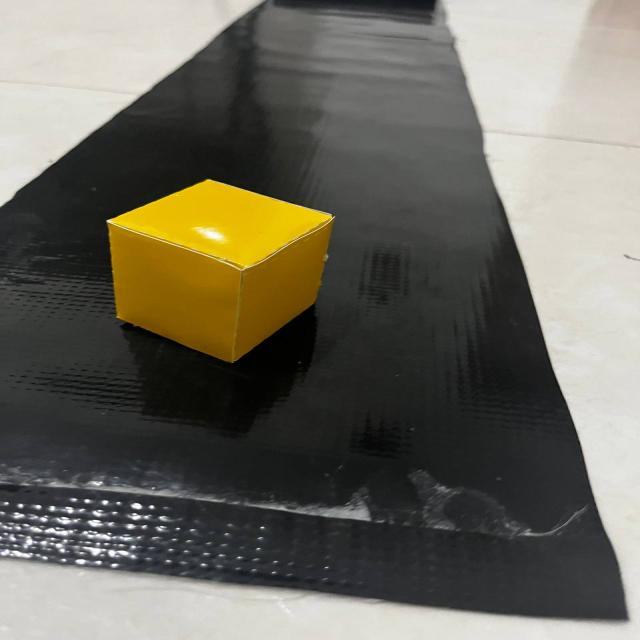Amarillo: (85, 162, 357, 389)
